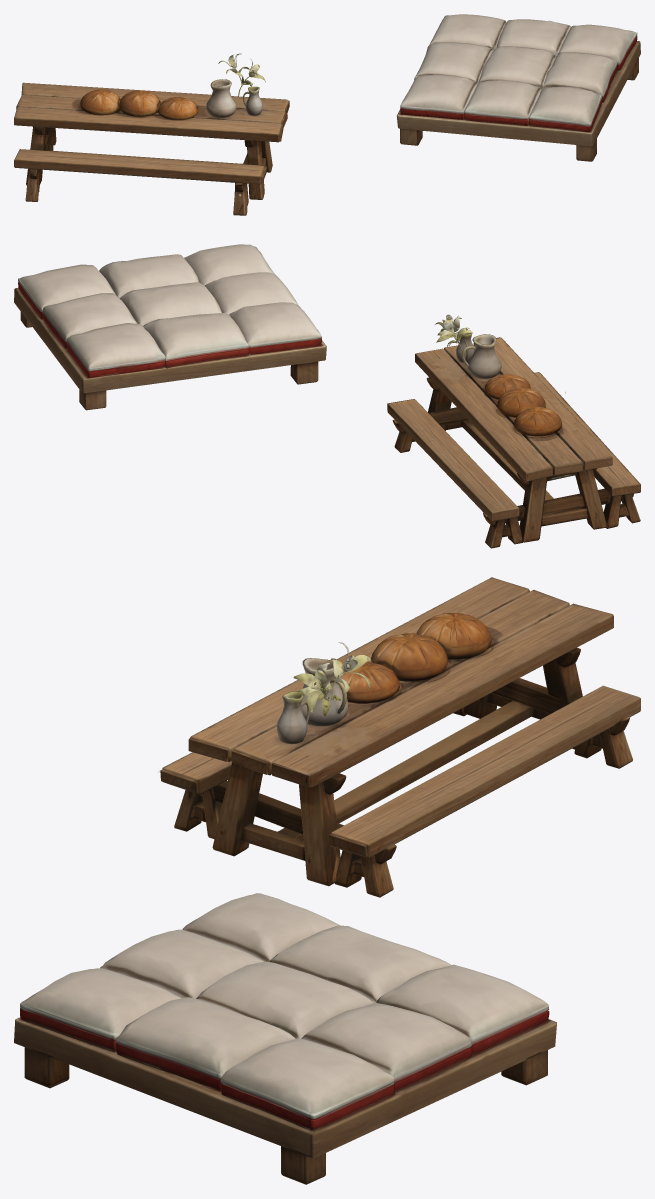
File: act1_kit_v1_R18_refectory_table_platform.glb
The picture shows the model from 3 angles, top to bottom: view 1: azimuth 30°, elevation 25°; view 2: azimuth 150°, elevation 25°; view 3: azimuth 270°, elevation 25°; orthographic projection. The views are drawn at different scales.
Visible parts, largest first — view 1: tripo_8ae3da22_c1cd_4ed4_8afa_6f77708bbe1d; view 2: tripo_8ae3da22_c1cd_4ed4_8afa_6f77708bbe1d; view 3: tripo_8ae3da22_c1cd_4ed4_8afa_6f77708bbe1d.
Part boxes in pixels (left/top/right/bottom): tripo_8ae3da22_c1cd_4ed4_8afa_6f77708bbe1d: left=14, top=14, right=640, bottom=215; tripo_8ae3da22_c1cd_4ed4_8afa_6f77708bbe1d: left=14, top=244, right=640, bottom=548; tripo_8ae3da22_c1cd_4ed4_8afa_6f77708bbe1d: left=14, top=577, right=640, bottom=1184.
Size of the model in its own units: 0.9995 by 0.1938 by 0.5103.
Materials: 1 (1 with a texture image).
